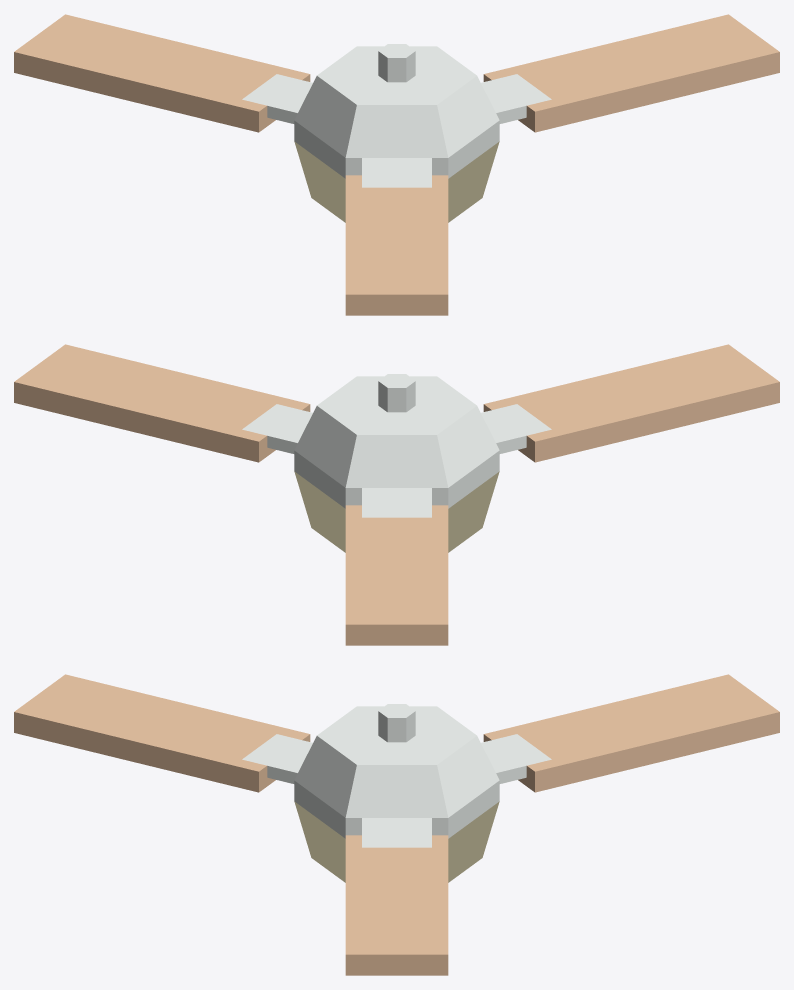
File: ceilingFan.gltf
3 views of the same model, one above another, from view 1: azimuth 30°, elevation 25°; view 2: azimuth 150°, elevation 25°; view 3: azimuth 270°, elevation 25° (orthographic).
Visible parts, largest first — view 1: ceilingFan(Clone); view 2: ceilingFan(Clone); view 3: ceilingFan(Clone).
Boxes of the visible parts, x1,y1,x2,y2 form: ceilingFan(Clone): (14, 14, 779, 315); ceilingFan(Clone): (14, 344, 779, 645); ceilingFan(Clone): (14, 674, 779, 975).
Size of the model in its own units: 0.4547 by 0.1337 by 0.5251.
